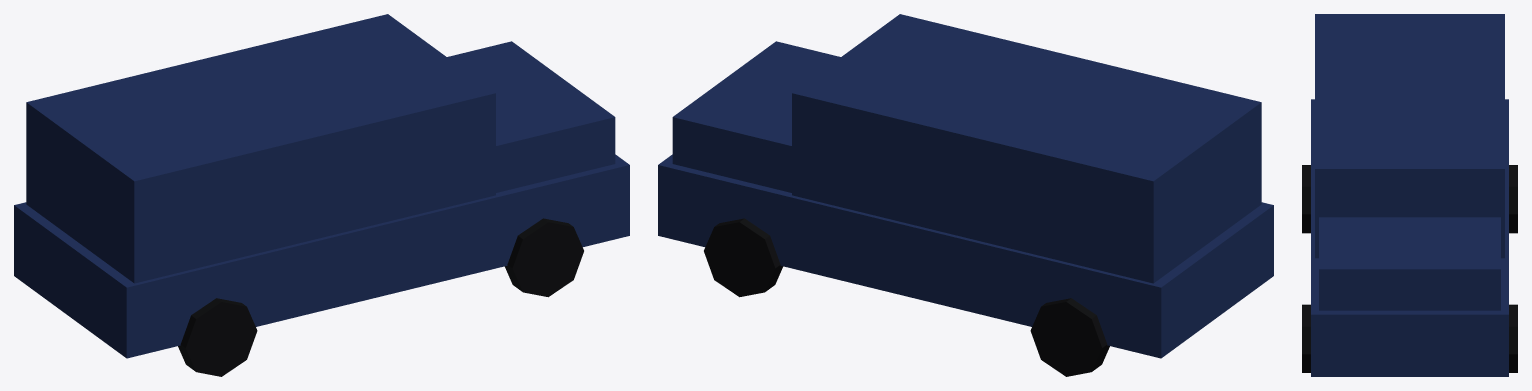
File: proxy_van_blue.dae
3 views of the same model, side by side, from view 1: azimuth 30°, elevation 25°; view 2: azimuth 150°, elevation 25°; view 3: azimuth 270°, elevation 25° (orthographic). The views are drawn at different scales.
Visible parts, largest first — view 1: proxy_van; view 2: proxy_van; view 3: proxy_van.
Boxes of the visible parts, x1=… form: proxy_van: x1=14, y1=14, x2=629, y2=376; proxy_van: x1=658, y1=14, x2=1273, y2=376; proxy_van: x1=1302, y1=14, x2=1517, y2=376.
Size of the model in its own units: 5.05 by 2.14 by 2.01.
